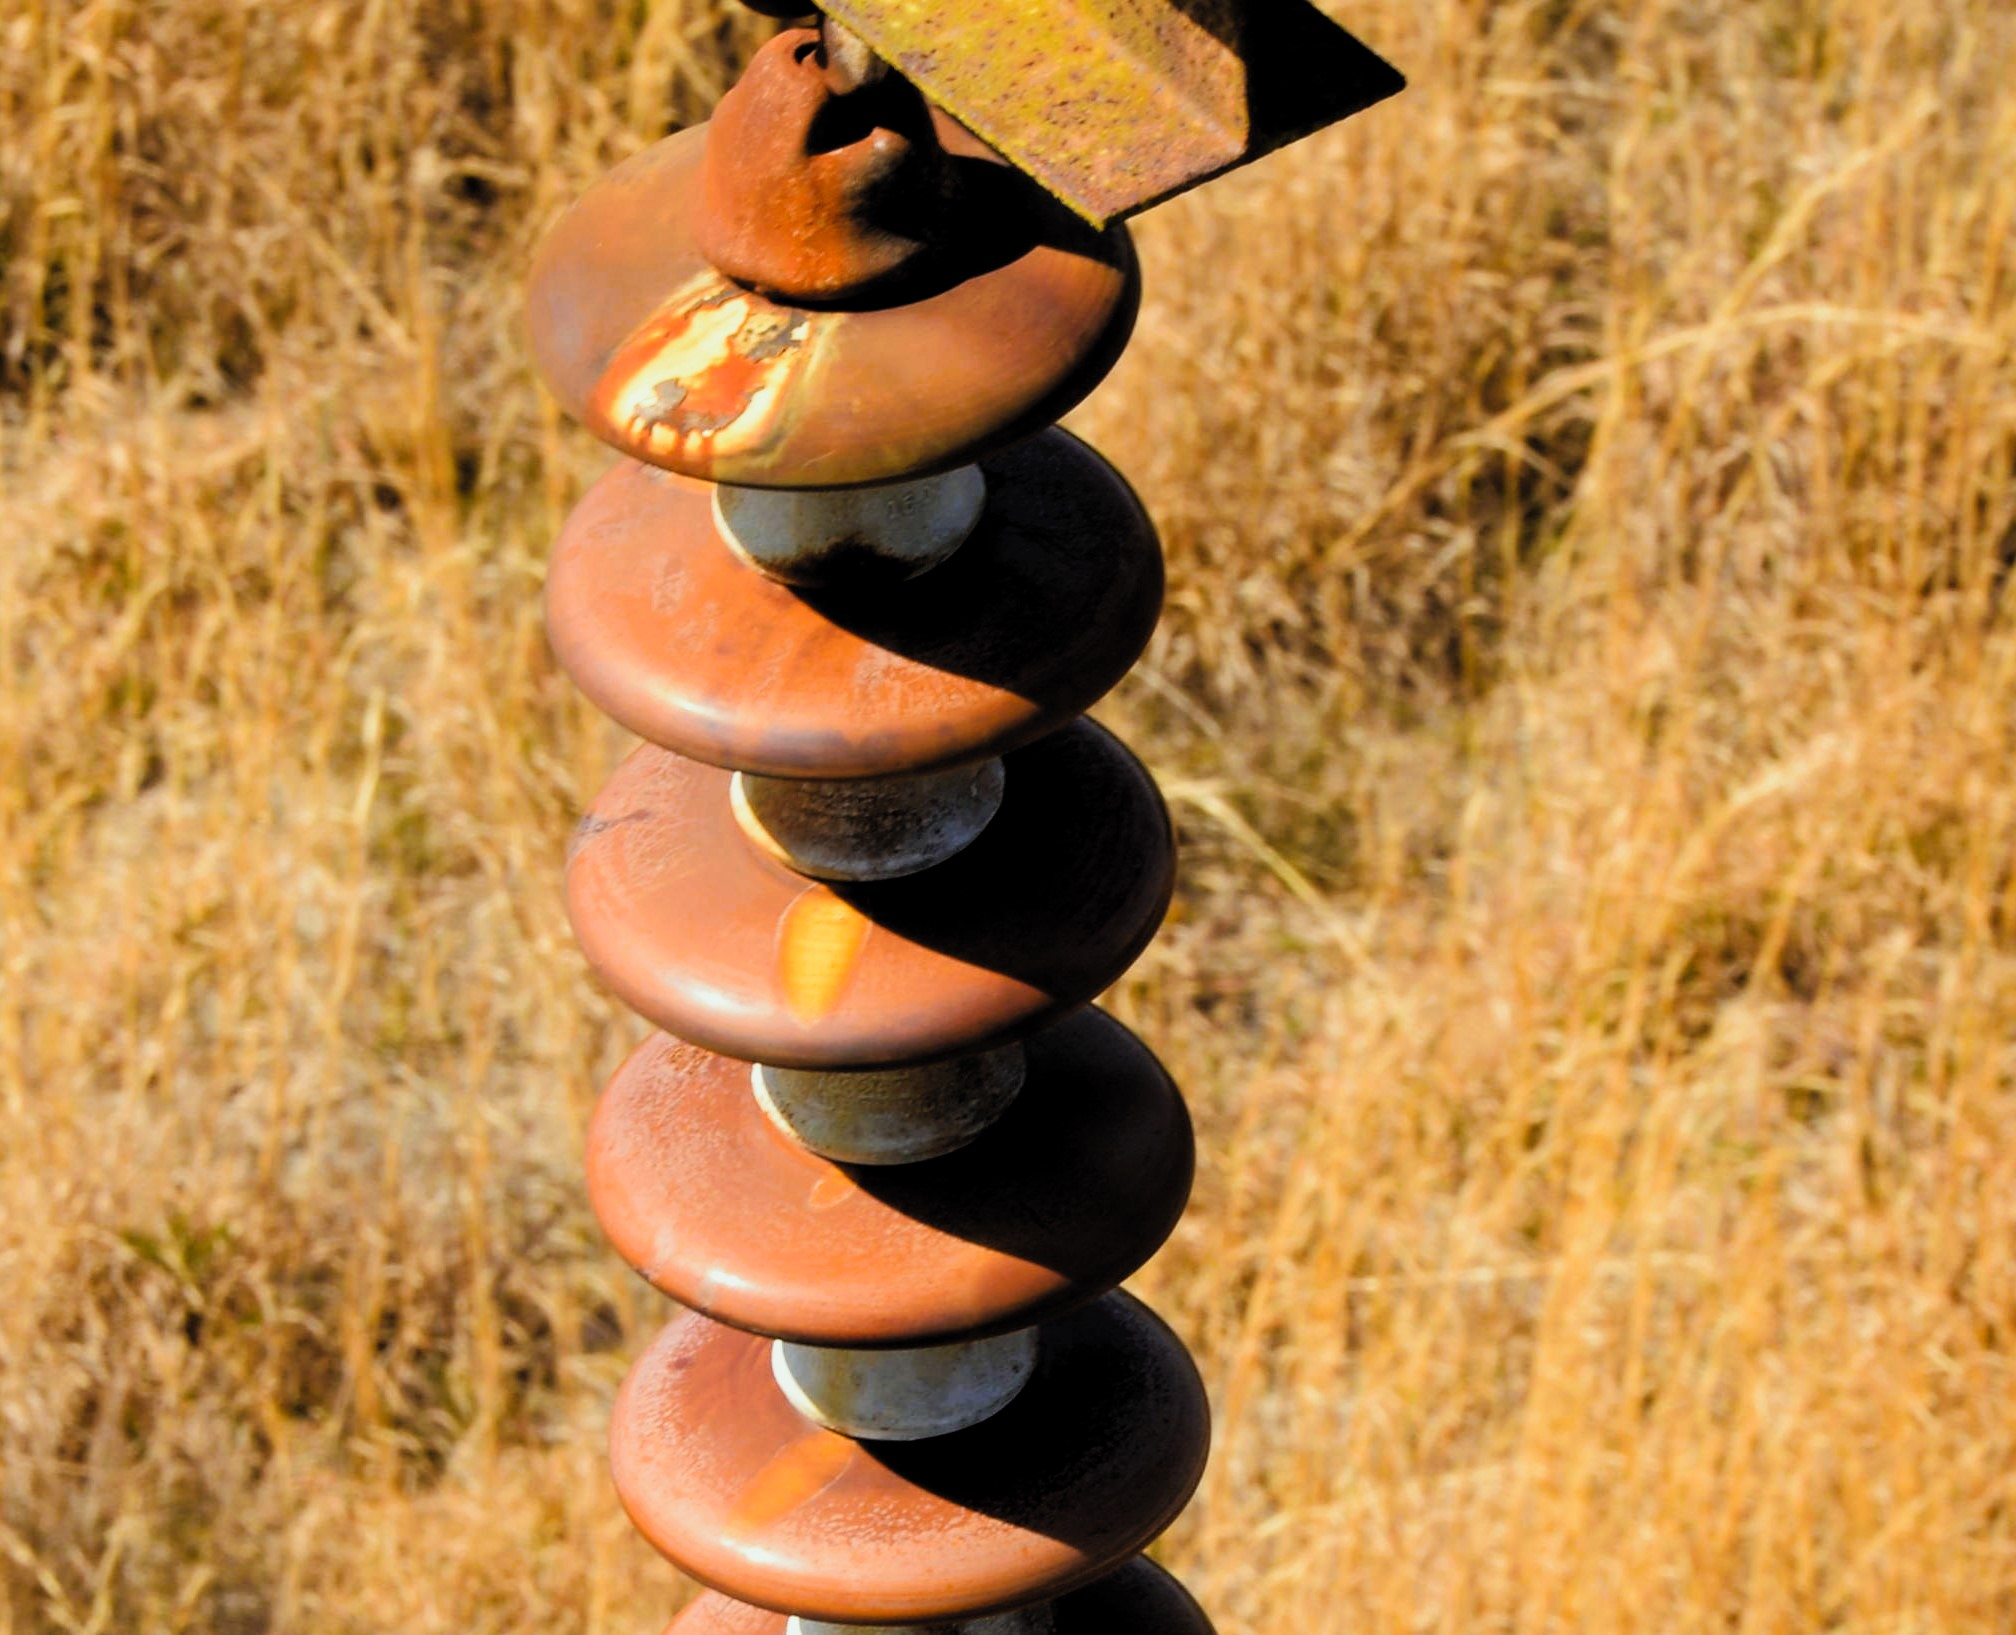Insulator flashover: (497, 103, 1157, 494)
